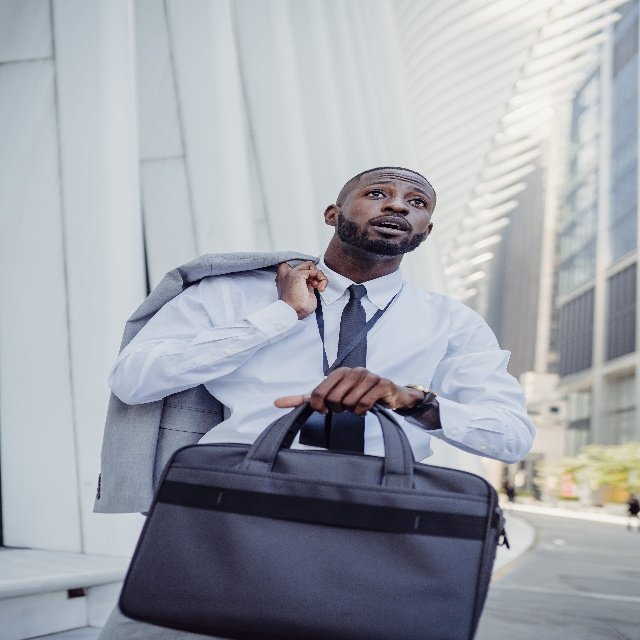Sin_guantes: (273, 364, 411, 417), (274, 259, 328, 322)
